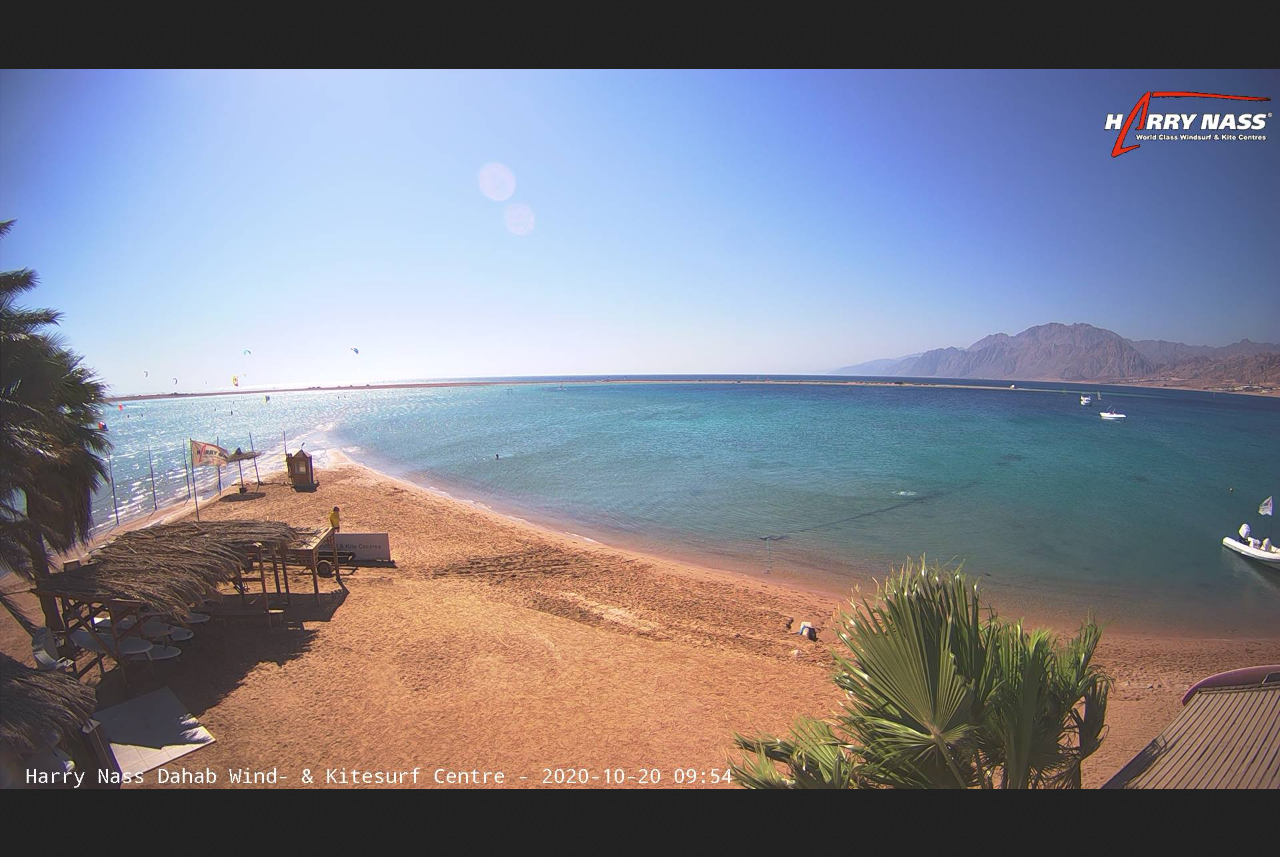yes: (185, 438, 229, 470)
